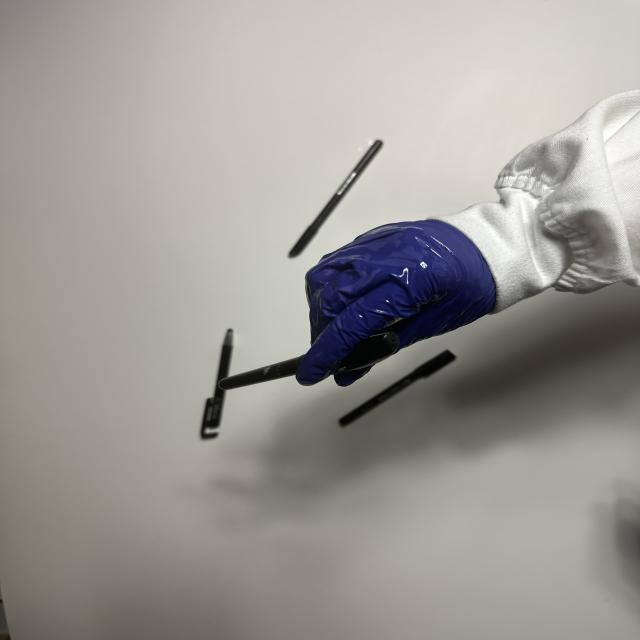gloves_contaminated: (296, 220, 496, 386)
